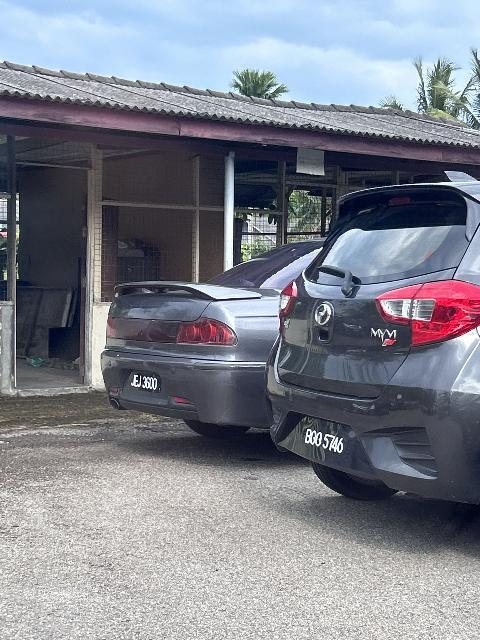JEJ3600: (125, 369, 163, 399)
License_Plate: (293, 424, 358, 461), (125, 369, 163, 399)
car: (267, 176, 480, 514), (93, 233, 383, 445)
